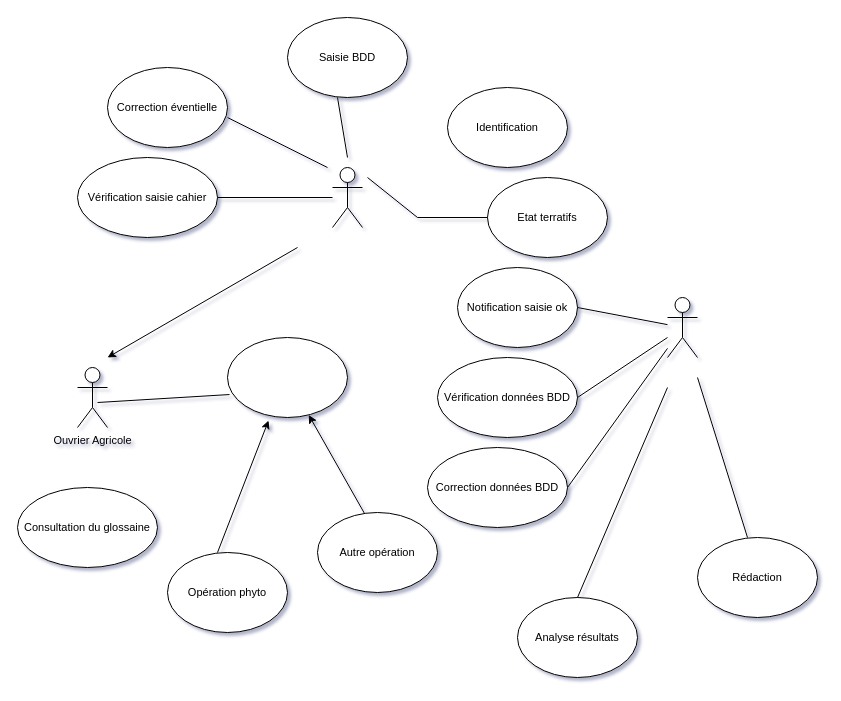
Some shapes in this 841 by 701 pixel diagram are drawn without their labels. Here are the shapes that lost their labels. From the top down, the box of each, then its label:
(332, 166, 362, 228): Chef exploitration
(666, 296, 698, 358): Chercheur
(226, 336, 348, 418): Saisie opération
